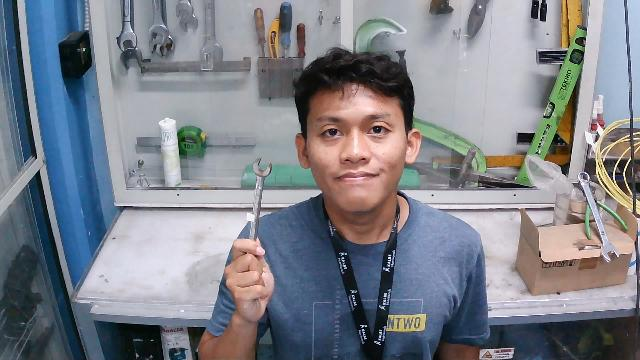kunci_pass_13: (222, 147, 282, 290)
